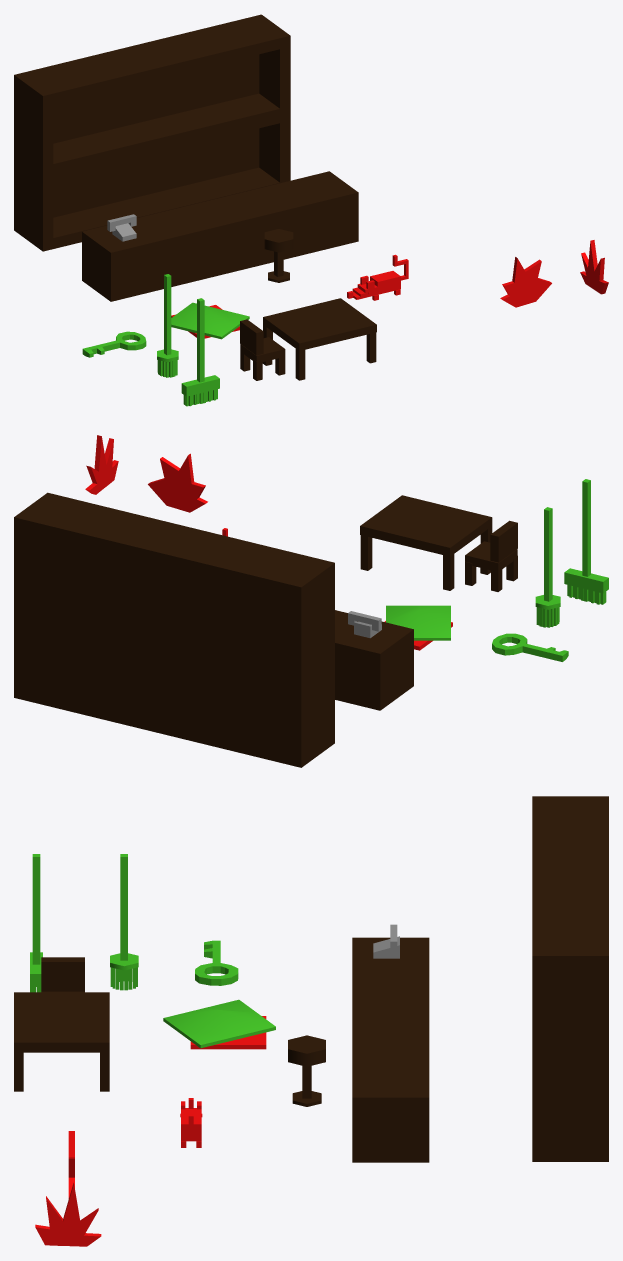
The model's file is karton.FBX.
The picture shows the model from 3 angles, top to bottom: view 1: azimuth 30°, elevation 25°; view 2: azimuth 150°, elevation 25°; view 3: azimuth 270°, elevation 25°; orthographic projection. The views are drawn at different scales.
Visible parts, largest first — view 1: barszekreny, barpult, asztal, tuz, szek, sepru, karton, patkany, felmoso, barszek, kulcs, telefon; view 2: barszekreny, barpult, asztal, tuz, szek, sepru, karton, felmoso, kulcs, telefon; view 3: barszekreny, barpult, asztal, karton, tuz, felmoso, barszek, szek, sepru, kulcs, patkany, paca (+1 smaller).
Boxes of the visible parts, <box> form: barszekreny: <box>14,14,290,251</box>; barpult: <box>82,171,358,301</box>; asztal: <box>263,298,376,380</box>; tuz: <box>500,240,608,307</box>; szek: <box>240,319,285,380</box>; sepru: <box>181,298,219,406</box>; karton: <box>171,302,249,339</box>; patkany: <box>347,254,408,300</box>; felmoso: <box>157,274,178,377</box>; barszek: <box>264,229,293,282</box>; kulcs: <box>82,331,146,357</box>; telefon: <box>107,214,136,241</box>; barszekreny: <box>14,492,334,767</box>; barpult: <box>335,610,413,710</box>; asztal: <box>360,495,492,590</box>; tuz: <box>85,435,207,512</box>; szek: <box>465,520,517,591</box>; sepru: <box>564,479,608,604</box>; karton: <box>386,605,450,640</box>; felmoso: <box>535,507,560,627</box>; kulcs: <box>492,633,568,661</box>; telefon: <box>348,611,381,638</box>; barszekreny: <box>532,796,608,1161</box>; barpult: <box>352,937,429,1162</box>; asztal: <box>14,992,109,1091</box>; karton: <box>163,999,275,1048</box>; tuz: <box>35,1131,101,1246</box>; felmoso: <box>110,854,138,990</box>; barszek: <box>288,1035,325,1106</box>; szek: <box>41,957,84,992</box>; sepru: <box>30,854,42,992</box>; kulcs: <box>195,940,238,985</box>; patkany: <box>180,1098,202,1147</box>; paca: <box>190,1016,266,1049</box>.
Size of the model in its own units: 1474 by 498 by 1258.
